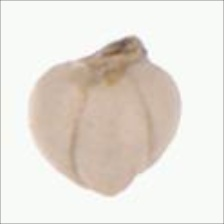L5: (70, 72, 155, 200), (63, 34, 157, 89)
L6: (27, 35, 185, 199)
